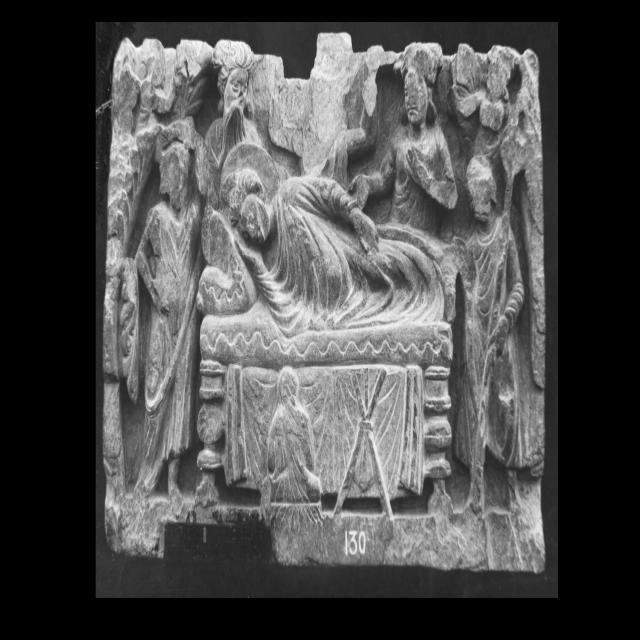buddha-sleeping: (198, 144, 452, 524)
